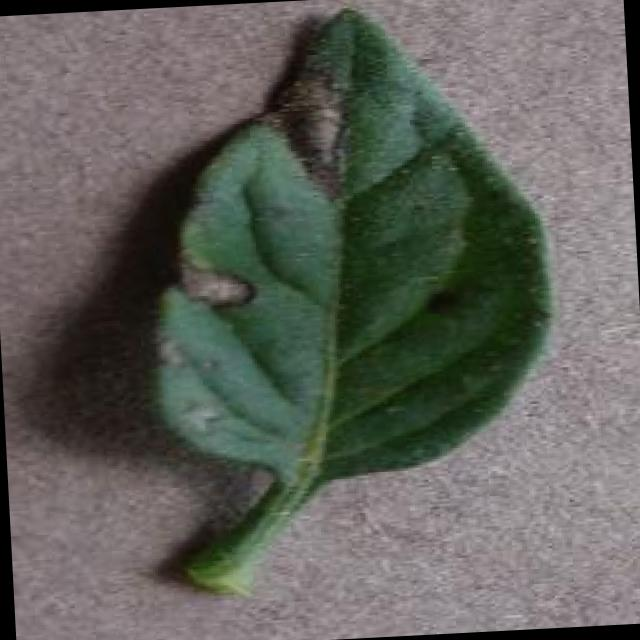Tomato_Early_Blight: (122, 10, 380, 328)
